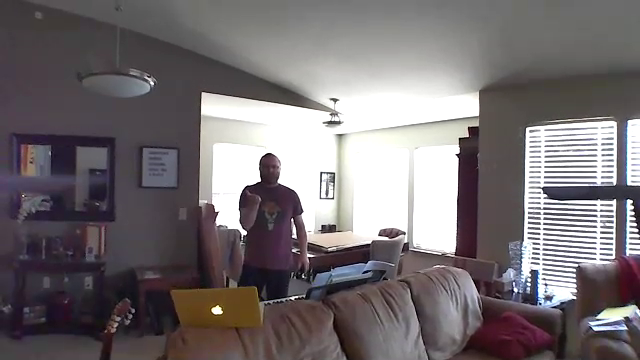land: (242, 188, 269, 206)
